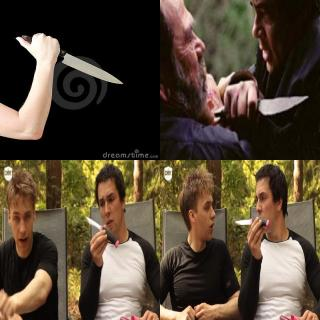knife: (44, 32, 126, 84), (236, 86, 311, 120), (84, 212, 120, 252), (232, 213, 272, 235)
